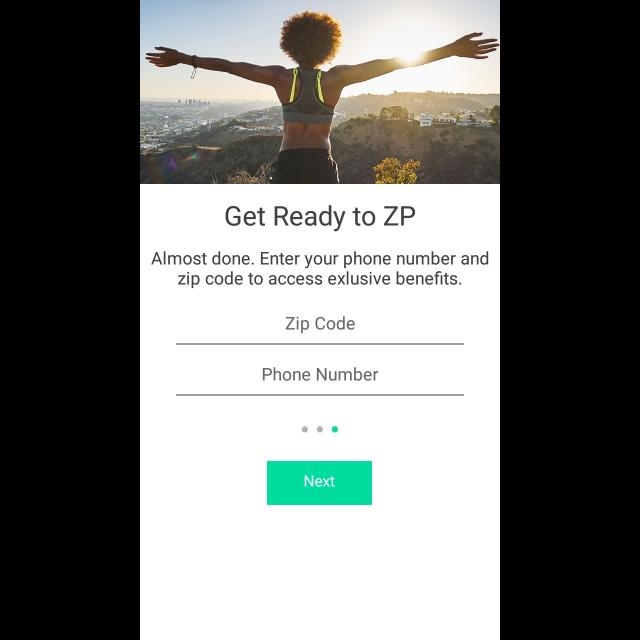image: (140, 0, 500, 184)
input: (176, 368, 464, 397), (176, 316, 464, 344)
pageindicator: (302, 426, 338, 432)
text: (152, 251, 488, 289), (226, 204, 416, 232), (262, 367, 378, 381), (286, 315, 354, 333)
textbutton: (268, 461, 372, 505)
